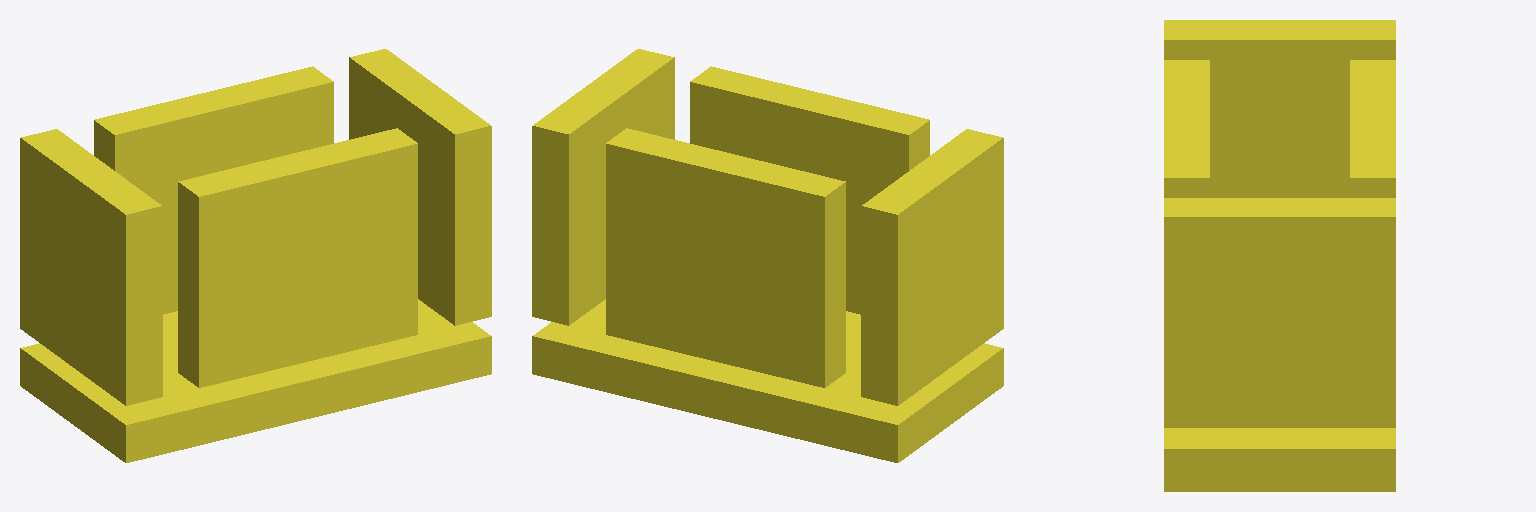
The robot description file, URDF, robot "mmp_panda":
<?xml version='1.0' encoding='utf-8'?>

<robot name="mmp_panda" version="1.0">

  <!-- GROUND LINK -->
  <link name ="ground_link">
    <inertial>
      <origin xyz="0.0 0.0 0.0" rpy="0 0 0" />
      <mass value="0.001" />
      <inertia ixx="1E-06" ixy="0.0" ixz="0.0" iyy="1E-06" iyz="0.0" izz="1E-06" />
    </inertial>
  </link>


  <!-- MOBILE BASE LINKS -->
  <link name ="base_x">
    <inertial>
      <origin xyz="0.0 0.0 0.0" rpy="0 0 0" />
      <mass value="0.001" />
      <inertia ixx="1E-06" ixy="0.0" ixz="0.0" iyy="1E-06" iyz="0.0" izz="1E-06" />
    </inertial>
  </link>

  <link name = "base_y">
    <inertial>
      <origin xyz="0.0 0.0 0.0" rpy="0 0 0" />
      <mass value = "0.001" />
      <inertia ixx="1E-06" ixy="0.0" ixz="0.0" iyy="1E-06" iyz="0.0" izz="1E-06" />
    </inertial>
  </link>

  <!-- MOBILE BASE + LINK 0 OF PANDA ARM -->
  <link name = "base_link">
    <inertial>
      <origin xyz="0.0 0.0 0.1757" rpy="0 0 0" />
      <mass value = "1000" />
      <inertia ixx="1000" ixy="0.0" ixz="0.0" iyy="1000" iyz="0.0" izz="1000" />
    </inertial>
    <visual>
      <geometry>
        <mesh filename="../../../model/project_models/mailtruck.obj" />
      </geometry>
      <origin xyz="-0.2 -0.4 0.3" rpy="0 0 3.1416" />
    </visual>
    <!-- MAIL SLOT BACK AND FRONT WALLS -->
    <visual>
      <geometry>
        <box size="0.02 0.1 0.1" />
      </geometry>
      <origin xyz="-0.69 0 0.37" rpy="0 0 0" />
    </visual>
    <visual>
      <geometry>
        <box size="0.02 0.1 0.1" />
      </geometry>
      <origin xyz="-0.51 0 0.37" rpy="0 0 0" />
    </visual>
    <collision>
      <geometry>
        <box size="0.02 0.1 0.1" />
      </geometry>
      <origin xyz="-0.69 0 0.37" rpy="0 0 0" />
    </collision>
    <collision>
      <geometry>
        <box size="0.02 0.1 0.1" />
      </geometry>
      <origin xyz="-0.51 0 0.37" rpy="0 0 0" />
    </collision> 
    <!-- MAIL SLOT SIDE WALLS -->
    <visual>
      <geometry>
        <box size="0.12 0.02 0.1" />
      </geometry>
      <origin xyz="-0.6 -0.04 0.37" rpy="0 0 0" />
    </visual>
        <visual>
    <geometry>
        <box size="0.12 0.02 0.1" />
      </geometry>
      <origin xyz="-0.6 0.04 0.37" rpy="0 0 0" />
    </visual>
    <collision>
      <geometry>
        <box size="0.12 0.02 0.1" />
      </geometry>
      <origin xyz="-0.6 -0.04 0.37" rpy="0 0 0" />
    </collision>
    <collision>
      <geometry>
        <box size="0.12 0.02 0.1" />
      </geometry>
      <origin xyz="-0.6 0.04 0.37" rpy="0 0 0" />
    </collision>
    <!-- MAIL SLOT BOTTOM -->
    <visual>
      <geometry>
        <box size="0.2 0.1 0.02" />
      </geometry>
      <origin xyz="-0.6 0 0.3" rpy="0 0 0" />
    </visual>
    <collision>
      <geometry>
        <box size="0.2 0.1 0.02" />
      </geometry>
      <origin xyz="-0.6 0 0.3" rpy="0 0 0" />
    </collision>
  </link>


  <!-- PANDA ARM LINKS --> 
<!--<link name="link0">
    <inertial>
      <origin xyz="0 0 0.05" rpy="0 0 0" />
      <mass value="4" />
      <inertia ixx="0.4" iyy="0.4" izz="0.4" ixy="0" ixz="0" iyz="0" />
    </inertial>
    <visual>
      <geometry>
        <mesh filename="../../../model/panda/meshes/visual/link0.obj"/>
      </geometry>
    </visual>
<!      <collision>
        <geometry>
          <mesh filename="../../../model/panda/meshes/collision/link0.obj"/>
        </geometry>
      </collision> 
  </link> -->
  <link name="link1">
    <inertial>
      <origin xyz="0 0 -0.07" rpy="0 -0 0" />
      <mass value="4" />
      <inertia ixx="0.3" iyy="0.3" izz="0.3" ixy="0" ixz="0" iyz="0" />
    </inertial>
    <visual>
      <geometry>
        <mesh filename="../../../model/panda/meshes/visual/link1.obj"/>
      </geometry>
    </visual>
    <!-- <collision>
      <geometry>
        <mesh filename="../../../model/panda/meshes/collision/link1.obj"/>
      </geometry>
    </collision> -->
  </link>
  <link name="link2">
    <inertial>
      <origin xyz="0 -0.1 0" rpy="0 -0 0" />
      <mass value="3" />
      <inertia ixx="0.3" iyy="0.3" izz="0.3" ixy="0" ixz="0" iyz="0" />
    </inertial>
    <visual>
      <geometry>
        <mesh filename="../../../model/panda/meshes/visual/link2.obj"/>
      </geometry>
    </visual>
    <!-- <collision>
      <geometry>
        <mesh filename="../../../model/panda/meshes/collision/link2.obj"/>
      </geometry>
    </collision> -->
  </link>
  <link name="link3">
    <inertial>
      <origin xyz="0.04 0 -0.05" rpy="0 -0 0" />
      <mass value="3" />
      <inertia ixx="0.2" iyy="0.2" izz="0.2" ixy="0" ixz="0" iyz="0" />
    </inertial>
    <visual>
      <geometry>
        <mesh filename="../../../model/panda/meshes/visual/link3.obj"/>
      </geometry>
    </visual>
    <!-- <collision>
      <geometry>
        <mesh filename="../../../model/panda/meshes/collision/link3.obj"/>
      </geometry>
    </collision> -->
  </link>
  <link name="link4">
    <inertial>
      <origin xyz="-0.04 0.05 0" rpy="0 -0 0" />
      <mass value="3" />
      <inertia ixx="0.2" iyy="0.2" izz="0.2" ixy="0" ixz="0" iyz="0" />
    </inertial>
    <visual>
      <geometry>
        <mesh filename="../../../model/panda/meshes/visual/link4.obj"/>
      </geometry>
    </visual>
<!--       <collision>
      <geometry>
        <mesh filename="../../../model/panda/meshes/collision/link4.obj"/>
      </geometry>
    </collision> -->
  </link>
  <link name="link5">
    <inertial>
      <origin xyz="0 0 -0.15" rpy="0 -0 0" />
      <mass value="3" />
      <inertia ixx="0.2" iyy="0.2" izz="0.2" ixy="0" ixz="0" iyz="0" />
    </inertial>
    <visual>
      <geometry>
        <mesh filename="../../../model/panda/meshes/visual/link5.obj"/>
      </geometry>
    </visual>
<!--       <collision>
      <geometry>
        <mesh filename="../../../model/panda/meshes/collision/link5.obj"/>
      </geometry>
    </collision> -->
  </link>
  <link name="link6">
    <inertial>
      <origin xyz="0.06 0 0" rpy="0 -0 0" />
      <mass value="2" />
      <inertia ixx="0.1" iyy="0.1" izz="0.1" ixy="0" ixz="0" iyz="0" />
    </inertial>
    <visual>
      <geometry>
        <mesh filename="../../../model/panda/meshes/visual/link6.obj"/>
      </geometry>
    </visual>
    <!-- <collision>
      <geometry>
        <mesh filename="../../../model/panda/meshes/collision/link6.obj"/>
      </geometry>
    </collision> -->
  </link>

  <link name="link7">
    <inertial>
      <origin xyz="0 0 0.17" rpy="0 -0 0" />
      <mass value="1.8" />
      <inertia ixx="0.09" iyy="0.05" izz="0.07" ixy="0" ixz="0" iyz="0" />
    </inertial>
    <visual>
      <geometry>
        <mesh filename="../../../model/panda/meshes/visual/link7.obj"/>
      </geometry>
    </visual>
    <!-- <collision>
      <geometry>
        <mesh filename="../../../model/panda/meshes/collision/link7.obj"/>
      </geometry>
    </collision> -->
    <visual>
      <origin xyz="0 0 0.107" rpy="0 0 -0.78539816339" />
      <geometry>
        <mesh filename="../../../model/panda/meshes/visual/hand.obj"/>
      </geometry>
    </visual>
<!--       <collision>
      <origin xyz="0 0 0.107" rpy="0 0 -0.78539816339" />
      <geometry>
        <mesh filename="../../../model/panda/meshes/collision/hand.obj"/>
      </geometry>
    </collision> -->
  </link>
  <link name="leftfinger">
    <inertial>
      <origin xyz="0 0 0.05" rpy="0 -0 0" />
      <mass value="0.1" />
      <inertia ixx="0.01" iyy="0.01" izz="0.005" ixy="0" ixz="0" iyz="0" />
    </inertial>
    <visual>
      <geometry>
        <mesh filename="../../../model/panda/meshes/visual/finger.obj"/>
      </geometry>
    </visual>
<!--       <collision>
      <geometry>
        <mesh filename="../../../model/panda/meshes/collision/finger.obj"/>
      </geometry>
    </collision> -->
  </link>
  <link name="rightfinger">
    <inertial>
      <origin xyz="0 0 0.05" rpy="0 -0 0" />
      <mass value="0.1" />
      <inertia ixx="0.01" iyy="0.01" izz="0.005" ixy="0" ixz="0" iyz="0" />
    </inertial>
    <visual>
      <origin xyz="0 0 0" rpy="0 0 3.14159265359" />
      <geometry>
        <mesh filename="../../../model/panda/meshes/visual/finger.obj"/>
      </geometry>
    </visual>
<!--       <collision>
      <origin xyz="0 0 0" rpy="0 0 3.14159265359" />
      <geometry>
        <mesh filename="../../../model/panda/meshes/collision/finger.obj"/>
      </geometry>
    </collision> -->
  </link>

  <!-- JOINTS -->
  <joint name = "base_prismatic_x" type = "prismatic">
    <origin xyz = "0 0 0" rpy = "0 0 0"/> 
    <parent link = "ground_link" />
    <child link= "base_x"/>
    <axis xyz = "1 0 0" />
    <limit effort="87" lower="-2.8973" upper="2.9873" velocity="2.1750" />
  </joint>

  <joint name = "base_prismatic_y" type = "prismatic">
    <origin xyz = "0 0 0" rpy = "0 0 0"/> 
    <parent link = "base_x" />
    <child link= "base_y"/>
    <axis xyz = "0 1 0" />
    <limit effort="87" lower="-2.8973" upper="2.9873" velocity="2.1750" />
  </joint>

  <joint name = "base_revolute" type = "revolute">
    <origin xyz = "0 0 0.0" rpy = "0 0 0"/> 
    <parent link = "base_y" />
    <child link= "base_link"/>
    <axis xyz = "0 0 1" />
    <limit effort="87" lower="-2.8973" upper="2.8973" velocity="2.1750" />
  </joint>
<!--
  <joint name = "base_prismatic_link0" type = "prismatic">
    <origin xyz = "0 0 0.33" rpy = "0 0 0"/> 
    <parent link = "base_link" />
    <child link= "link0"/>
    <axis xyz = "0 0 1" />
    <limit effort="87" lower="-2.8973" upper="2.8973" velocity="2.1750" />
  </joint>
-->
  <joint name="joint1" type="revolute">
      <safety_controller k_position="100.0" k_velocity="40.0" soft_lower_limit="-2.8973" soft_upper_limit="2.8973"/>
      <origin rpy="0 0 1.5708" xyz="0 0 0.333"/>
      <parent link="base_link"/>
      <child link="link1"/>
      <axis xyz="0 0 1"/>
      <calibration falling="-80.0" />
      <limit effort="87" lower="-2.8973" upper="2.8973" velocity="2.1750"/>
  </joint>

  <joint name="joint2" type="revolute">
      <safety_controller k_position="100.0" k_velocity="40.0" soft_lower_limit="-1.7628" soft_upper_limit="1.7628"/>
      <origin rpy="-1.57079632679 0 0" xyz="0 0 0"/>
      <parent link="link1"/>
      <child link="link2"/>
      <axis xyz="0 0 1"/>
      <calibration falling="-45.0" />
      <limit effort="87" lower="-1.7628" upper="1.7628" velocity="2.1750"/>
  </joint>

  <joint name="joint3" type="revolute">
      <safety_controller k_position="100.0" k_velocity="40.0" soft_lower_limit="-2.8973" soft_upper_limit="2.8973"/>
      <origin rpy="1.57079632679 0 0" xyz="0 -0.316 0"/>
      <parent link="link2"/>
      <child link="link3"/>
      <axis xyz="0 0 1"/>
      <limit effort="87" lower="-2.8973" upper="2.8973" velocity="2.1750"/>
  </joint>

  <joint name="joint4" type="revolute">
      <safety_controller k_position="100.0" k_velocity="40.0" soft_lower_limit="-3.0718" soft_upper_limit="-0.0698"/>
      <origin rpy="1.57079632679 0 0" xyz="0.0825 0 0"/>
      <parent link="link3"/>
      <child link="link4"/>
      <axis xyz="0 0 1"/>
      <calibration falling="-125.0" />
      <limit effort="87" lower="-3.0718" upper="-0.0698" velocity="2.1750"/>
  </joint>

  <joint name="joint5" type="revolute">
      <safety_controller k_position="100.0" k_velocity="40.0" soft_lower_limit="-2.8973" soft_upper_limit="2.8973"/>
      <origin rpy="-1.57079632679 0 0" xyz="-0.0825 0.384 0"/>
      <parent link="link4"/>
      <child link="link5"/>
      <axis xyz="0 0 1"/>
      <limit effort="12" lower="-2.8973" upper="2.8973" velocity="2.6100"/>
  </joint>

  <joint name="joint6" type="revolute">
      <safety_controller k_position="100.0" k_velocity="40.0" soft_lower_limit="-0.0175" soft_upper_limit="3.7525"/>
      <origin rpy="1.57079632679 0 0" xyz="0 0 0"/>
      <parent link="link5"/>
      <child link="link6"/>
      <axis xyz="0 0 1"/>
      <calibration falling="80.0" />
      <limit effort="12" lower="-0.0175" upper="3.7525" velocity="2.6100"/>
  </joint>

  <joint name="joint7" type="revolute">
      <safety_controller k_position="100.0" k_velocity="40.0" soft_lower_limit="-2.8973" soft_upper_limit="2.8973"/>
      <origin rpy="1.57079632679 0 0" xyz="0.088 0 0"/>
      <parent link="link6"/>
      <child link="link7"/>
      <axis xyz="0 0 1"/>
      <limit effort="12" lower="-2.8973" upper="2.8973" velocity="2.6100"/>
  </joint>

  <joint name="finger_joint1" type="prismatic">
    <parent link="link7"/>
    <child link="leftfinger"/>
    <origin xyz="0 0 0.1654" rpy="0 0 -0.78539816339"/>
    <axis xyz="0 1 0"/>
    <calibration rising="0.02" />
    <limit effort="20" lower="0.0" upper="0.04" velocity="0.2"/>
  </joint>
  <joint name="finger_joint2" type="prismatic">
    <parent link="link7"/>
    <child link="rightfinger"/>
    <origin xyz="0 0 0.1654" rpy="0 0 -0.78539816339"/>
    <axis xyz="0 1 0"/>
    <calibration rising="-0.02" />
    <limit effort="20" lower="0.0" upper="0.04" velocity="0.2"/>
    <!-- <mimic joint="finger_joint1" /> -->
  </joint>
<!--
   <joint name="joint1" type="revolute">
    <origin xyz="0 0 0.48643" rpy="3.1416 2.7629E-18 -3.14" />
    <parent link="base_link" />
    <child link="link1" />
    <axis xyz="0 0 1" />
    <limit lower="-10" upper="10" effort="39" velocity="0.8727" />
  </joint>

  <joint name="joint2" type="revolute">
    <origin xyz="0 0.005375 -0.12838" rpy="1.5708 2.1343E-17 -1.1102E-16" />
    <parent link="link1" />
    <child link="link2" />
    <axis xyz="0 0 1" />
    <calibration falling="-45.0" />
    <limit lower="-10" upper="10" effort="39" velocity="0.8727" />
  </joint>

  <joint name="joint3" type="revolute">
    <origin xyz="0 -0.21038 -0.006375" rpy="-1.5708 1.2326E-32 -2.9122E-16" />
    <parent link="link2" />
    <child link="link3" />
    <axis xyz="0 0 1" />
    <limit lower="-10" upper="10" effort="39" velocity="0.8727" />
  </joint>

  <joint name="joint4" type="revolute">
    <origin xyz="0 0.006375 -0.21038" rpy="1.5708 -6.6954E-17 -1.6653E-16" />
    <parent link="link3" />
    <child link="link4" />
    <axis xyz="0 0 1" />
    <calibration falling="-125.0" />
    <limit lower="-10" upper="10" effort="39" velocity="0.8727" />
  </joint>

  <joint name="joint5" type="revolute">
    <origin xyz="0 -0.20843 -0.006375" rpy="-1.5708 2.2204E-16 -6.373E-17" />
    <parent link="link4" />
    <child link="link5" />
    <axis xyz="0 0 1" />
    <limit lower="-10" upper="10" effort="9" velocity="0.8727" />
  </joint>

  <joint name="joint6" type="revolute">
    <origin xyz="0 0.00017505 -0.10593" rpy="1.5708 9.2076E-28 -8.2157E-15" />
    <parent link="link5" />
    <child link="link6" />
    <axis xyz="0 0 1" />
    <calibration falling="80.0" />
    <limit lower="-10" upper="10" effort="9" velocity="0.8727" />
  </joint>

  <joint name="joint7" type="revolute">
    <origin xyz="0 -0.10593 -0.00017505" rpy="-1.5708 -5.5511E-17 9.6396E-17" />
    <parent link="link6" />
    <child link="link7" />
    <axis xyz="0 0 1" />
    <limit lower="-10" upper="10" effort="9" velocity="0.8727" />
  </joint>
-->
  
</robot> 

--- Render facts (derived) ---
Views: 3 orthographic renders of the robot side by side, from view 1: azimuth 30°, elevation 25°; view 2: azimuth 150°, elevation 25°; view 3: azimuth 270°, elevation 25°.
Model mmp_panda with 13 links and 12 joints (8 revolute, 4 prismatic), rooted at ground_link, posed joints at zero except 1 at the middle of their limits (joint4 = -1.57).
Links seen in each view (by area): view 1: base_link; view 2: base_link; view 3: base_link.
Boxes of the visible links, x1,y1,x2,y2 form: base_link: (20, 49, 491, 462); base_link: (532, 49, 1003, 462); base_link: (1164, 20, 1395, 491).
Size in the robot's own frame: 0.2 by 0.1 by 0.13 metres.
Geometry: only primitive shapes (box / cylinder / sphere) drawn; not drawn: 11 mesh visuals (reference in a form the renderer does not follow).